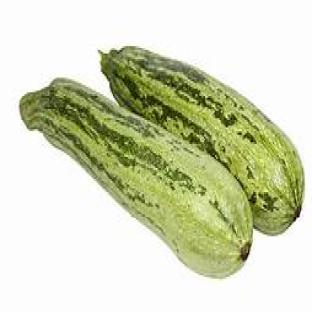Zucchini: (20, 80, 251, 276), (101, 47, 304, 234)
